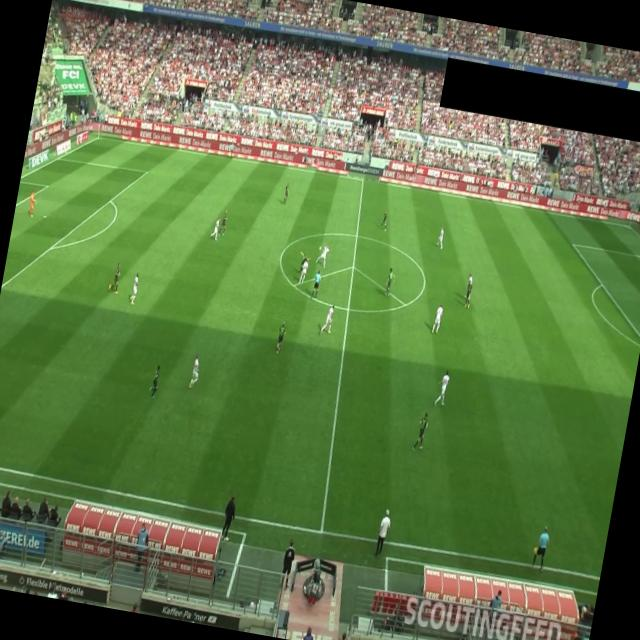ball: (318, 246, 321, 251)
goalkeeper: (26, 190, 38, 218)
player: (411, 409, 430, 454), (433, 368, 451, 408), (106, 261, 122, 295), (318, 302, 334, 336), (188, 353, 202, 389), (274, 320, 288, 355), (148, 362, 161, 398), (128, 272, 140, 305), (431, 304, 444, 334), (314, 244, 330, 268), (383, 266, 395, 296), (217, 209, 229, 237), (298, 258, 309, 284), (463, 280, 473, 308), (464, 272, 474, 300), (209, 217, 221, 240), (436, 226, 446, 250), (298, 251, 308, 275), (281, 181, 290, 205), (379, 210, 388, 230)
referee: (530, 524, 552, 572), (310, 268, 322, 300), (226, 142, 235, 160)
